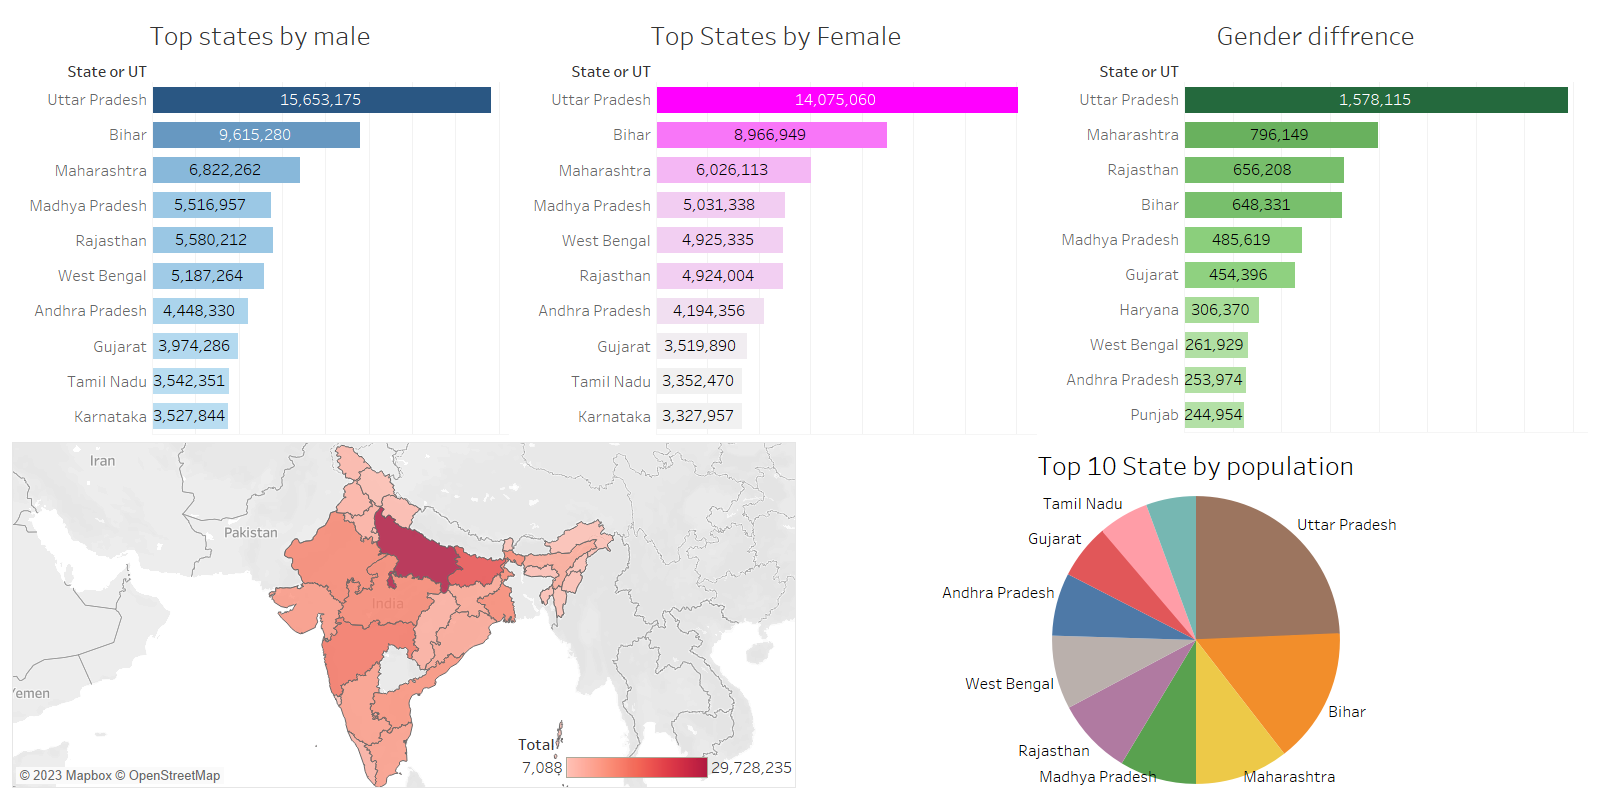

The page's visual inventory and layout, read from the dashboard file:
{"tool":"tableau","page":{"name":"Dashboard 1","canvas":[1600,800],"ordinal":0},"visuals":[{"type":"worksheet","title":"Top states by male","mark":"Automatic","rows":["State or UT"],"cols":["Male"],"box":[8,8,504,430]},{"type":"worksheet","title":"Top States by Female","mark":"Automatic","rows":["State or UT"],"cols":["Female"],"box":[512,8,528,430]},{"type":"worksheet","title":"Gender diffrence","mark":"Automatic","rows":["State or UT"],"cols":["Difference"],"box":[1040,8,552,430]},{"type":"worksheet","title":"Indian map for Population","mark":"Automatic","box":[8,438,792,354]},{"type":"worksheet","title":"Top 10 States by Population","mark":"Pie","box":[800,438,792,354]},{"type":"legend","title":"Indian map for Population","param":"[federated.08mjh4z1brcy311a3e2aq05f2jos].[sum:Total:qk]","box":[518,730,279,56]}]}

Visuals, with their boxes in screenshot pixels (x1, y1, x2, y2), scaled from the page's 1600x800 canvas onto the 1600x800 screenshot:
"Top states by male" worksheet: locate(8, 8, 512, 438)
"Top States by Female" worksheet: locate(512, 8, 1040, 438)
"Gender diffrence" worksheet: locate(1040, 8, 1592, 438)
"Indian map for Population" worksheet: locate(8, 438, 800, 792)
"Top 10 States by Population" worksheet (Pie marks): locate(800, 438, 1592, 792)
"Indian map for Population" legend: locate(518, 730, 797, 786)
